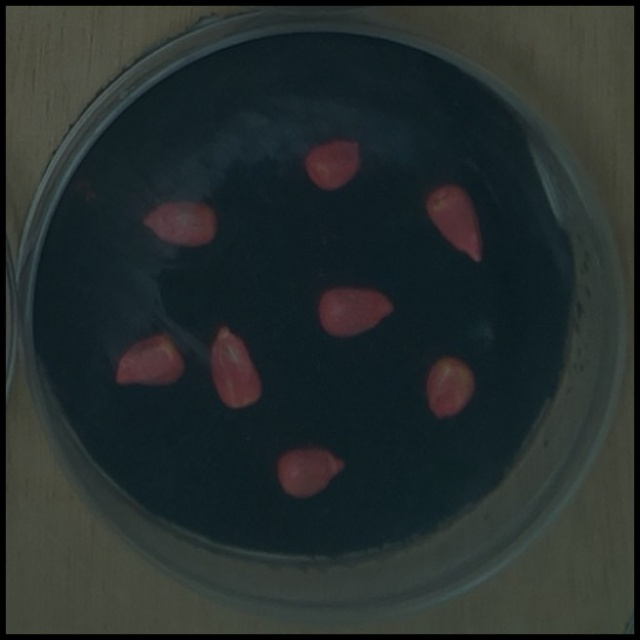Zea mays: (203, 319, 271, 418), (418, 176, 490, 269), (311, 279, 402, 345), (270, 437, 352, 506), (106, 327, 191, 392), (135, 192, 224, 253), (419, 347, 482, 426), (297, 132, 367, 198)
